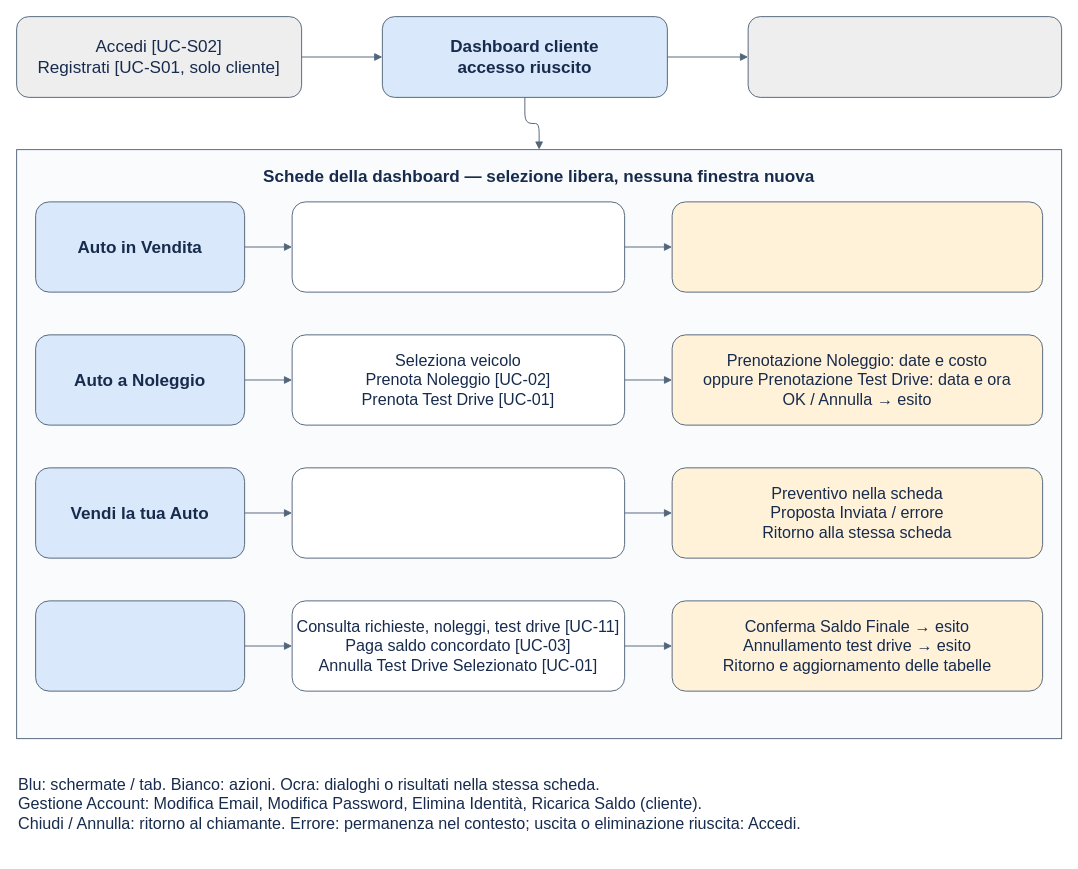
Image size: 1078x869. Some labels were removed from this diagram. Here are the shapes that lost their labels. From the top down, the box of each, then its label:
(747, 16, 1062, 97): Header: Gestione Account [UC-S03] Ricarica Saldo [UC-S04] Disconnetti → Accedi
(291, 201, 625, 292): Seleziona veicolo Acquista (acconto 20%) [UC-03] Prenota Test Drive [UC-01]
(671, 201, 1043, 292): Conferma Avvio Operazione oppure Prenotazione Test Drive OK / Annulla → esito
(291, 467, 625, 558): Compila proposta [UC-05] Calcola Preventivo Invia Proposta di Vendita
(35, 600, 245, 691): Le Mie Operazioni
